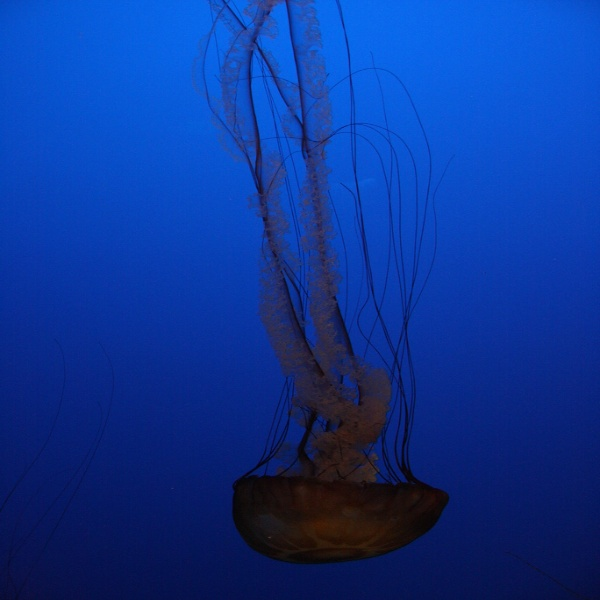Jellyfish: (165, 2, 479, 592)
